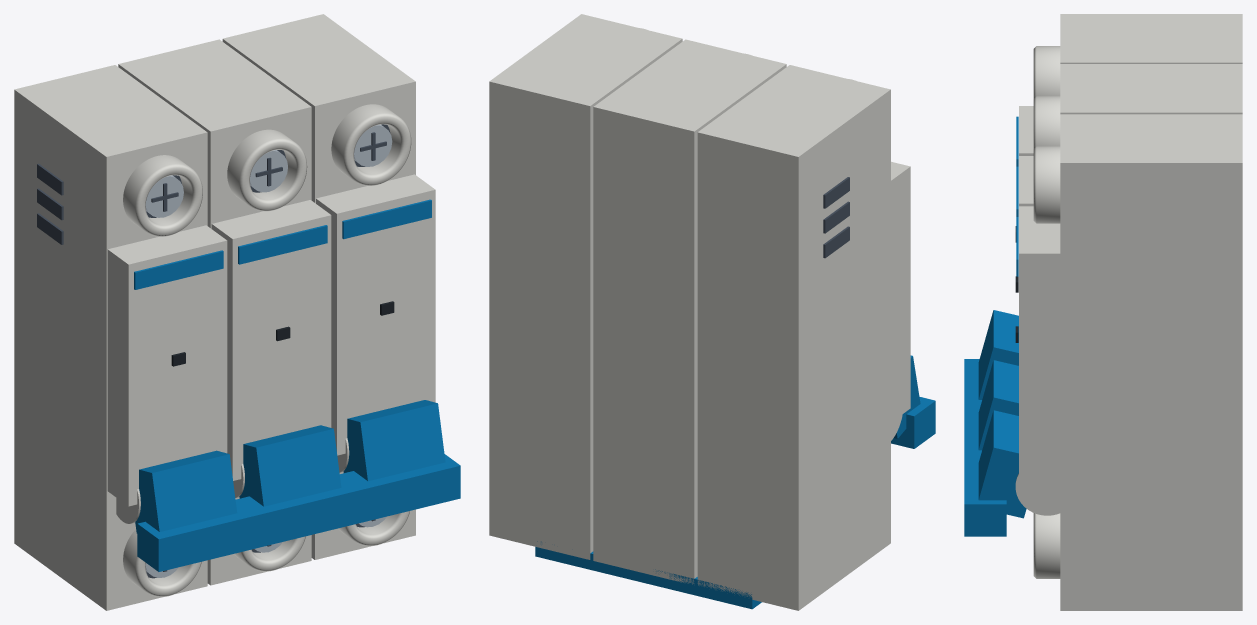
The model's file is circuit-breaker-3p.glb.
The picture shows the model from 3 angles, left to right: view 1: azimuth 30°, elevation 25°; view 2: azimuth 150°, elevation 25°; view 3: azimuth 270°, elevation 25°; orthographic projection.
Visible parts, largest first — view 1: pole-0-housing, pole-0-front, pole-1-front, pole-2-front, blue-toggle (×3), recessed-terminal-rim (×6), pole-1-housing, pole-2-housing, three-pole-toggle-link, terminal-screw (×3), pole-2-blue-stripe, pole-0-blue-stripe (+1 smaller); view 2: pole-0-housing, pole-2-housing, pole-1-housing, pole-0-front, din-rail-latch, three-pole-toggle-link; view 3: pole-2-housing, pole-2-front, pole-1-housing, pole-0-housing, blue-toggle (×3), recessed-terminal-rim (×4), three-pole-toggle-link, toggle-pivot, pole-1-front, pole-0-front.
Boxes of the visible parts, x1,y1,x2,y2 form: pole-0-housing: [14, 65, 207, 610]; pole-0-front: [107, 225, 227, 506]; pole-1-front: [211, 200, 331, 480]; pole-2-front: [316, 174, 435, 455]; blue-toggle (×3): [135, 400, 445, 533]; recessed-terminal-rim (×6): [123, 104, 411, 596]; pole-1-housing: [118, 39, 311, 585]; pole-2-housing: [222, 14, 415, 559]; three-pole-toggle-link: [137, 454, 460, 571]; terminal-screw (×3): [145, 124, 392, 217]; pole-2-blue-stripe: [342, 199, 431, 239]; pole-0-blue-stripe: [134, 250, 223, 289]; pole-0-housing: [697, 65, 890, 610]; pole-2-housing: [489, 14, 682, 559]; pole-1-housing: [593, 39, 786, 584]; pole-0-front: [891, 161, 910, 422]; din-rail-latch: [535, 541, 761, 609]; three-pole-toggle-link: [891, 396, 935, 448]; pole-2-housing: [1060, 114, 1242, 610]; pole-2-front: [1019, 206, 1060, 492]; pole-1-housing: [1060, 64, 1242, 114]; pole-0-housing: [1060, 14, 1242, 63]; blue-toggle (×3): [978, 310, 1026, 518]; recessed-terminal-rim (×4): [1033, 46, 1060, 578]; three-pole-toggle-link: [964, 359, 1006, 536]; toggle-pivot: [1015, 473, 1060, 515]; pole-1-front: [1019, 156, 1033, 206]; pole-0-front: [1019, 106, 1033, 155].
Bounding box in the file's own units: 1.09 × 1.55 × 0.855.
